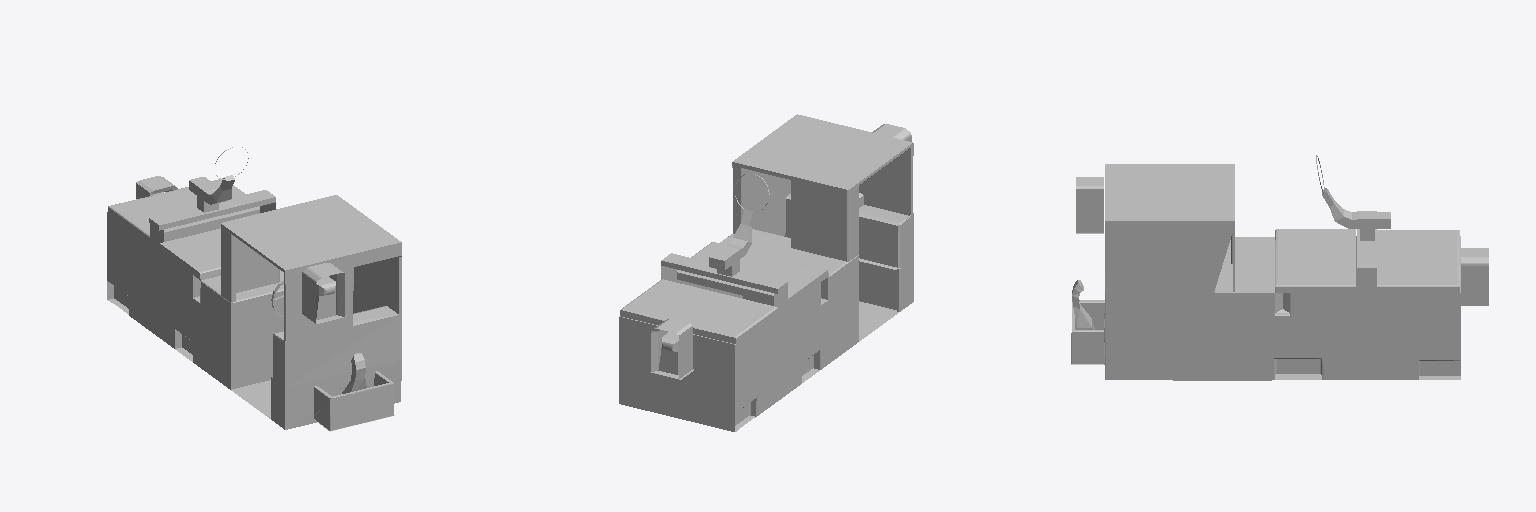
Rendered from elcart.obj.
The picture shows the model from 3 angles: view 1: azimuth 30°, elevation 25°; view 2: azimuth 150°, elevation 25°; view 3: azimuth 270°, elevation 25°; orthographic projection.
Visible parts, largest first — view 1: Cube_Cube.001, Cube.004_Cube.005, Cube.005_Cube.007, Cube.003_Cube.004, Cube.006_Cube.000; view 2: Cube_Cube.001, Cube.006_Cube.000, Cube.003_Cube.004; view 3: Cube_Cube.001, Cube.004_Cube.005, Cube.006_Cube.000, Cube.005_Cube.007, Cube.003_Cube.004.
Boxes of the visible parts, box(x1,y1,x2,y2) form: Cube_Cube.001: box(107, 178, 401, 429); Cube.004_Cube.005: box(314, 353, 394, 431); Cube.005_Cube.007: box(302, 263, 345, 323); Cube.003_Cube.004: box(189, 175, 234, 212); Cube.006_Cube.000: box(136, 176, 177, 198); Cube_Cube.001: box(619, 114, 913, 431); Cube.006_Cube.000: box(651, 318, 693, 379); Cube.003_Cube.004: box(709, 209, 755, 276); Cube_Cube.001: box(1104, 164, 1460, 380); Cube.004_Cube.005: box(1071, 280, 1104, 364); Cube.006_Cube.000: box(1461, 248, 1488, 305); Cube.005_Cube.007: box(1076, 177, 1103, 233); Cube.003_Cube.004: box(1322, 188, 1390, 240).
Size of the model in its own units: 6.76 by 10.72 by 20.94.